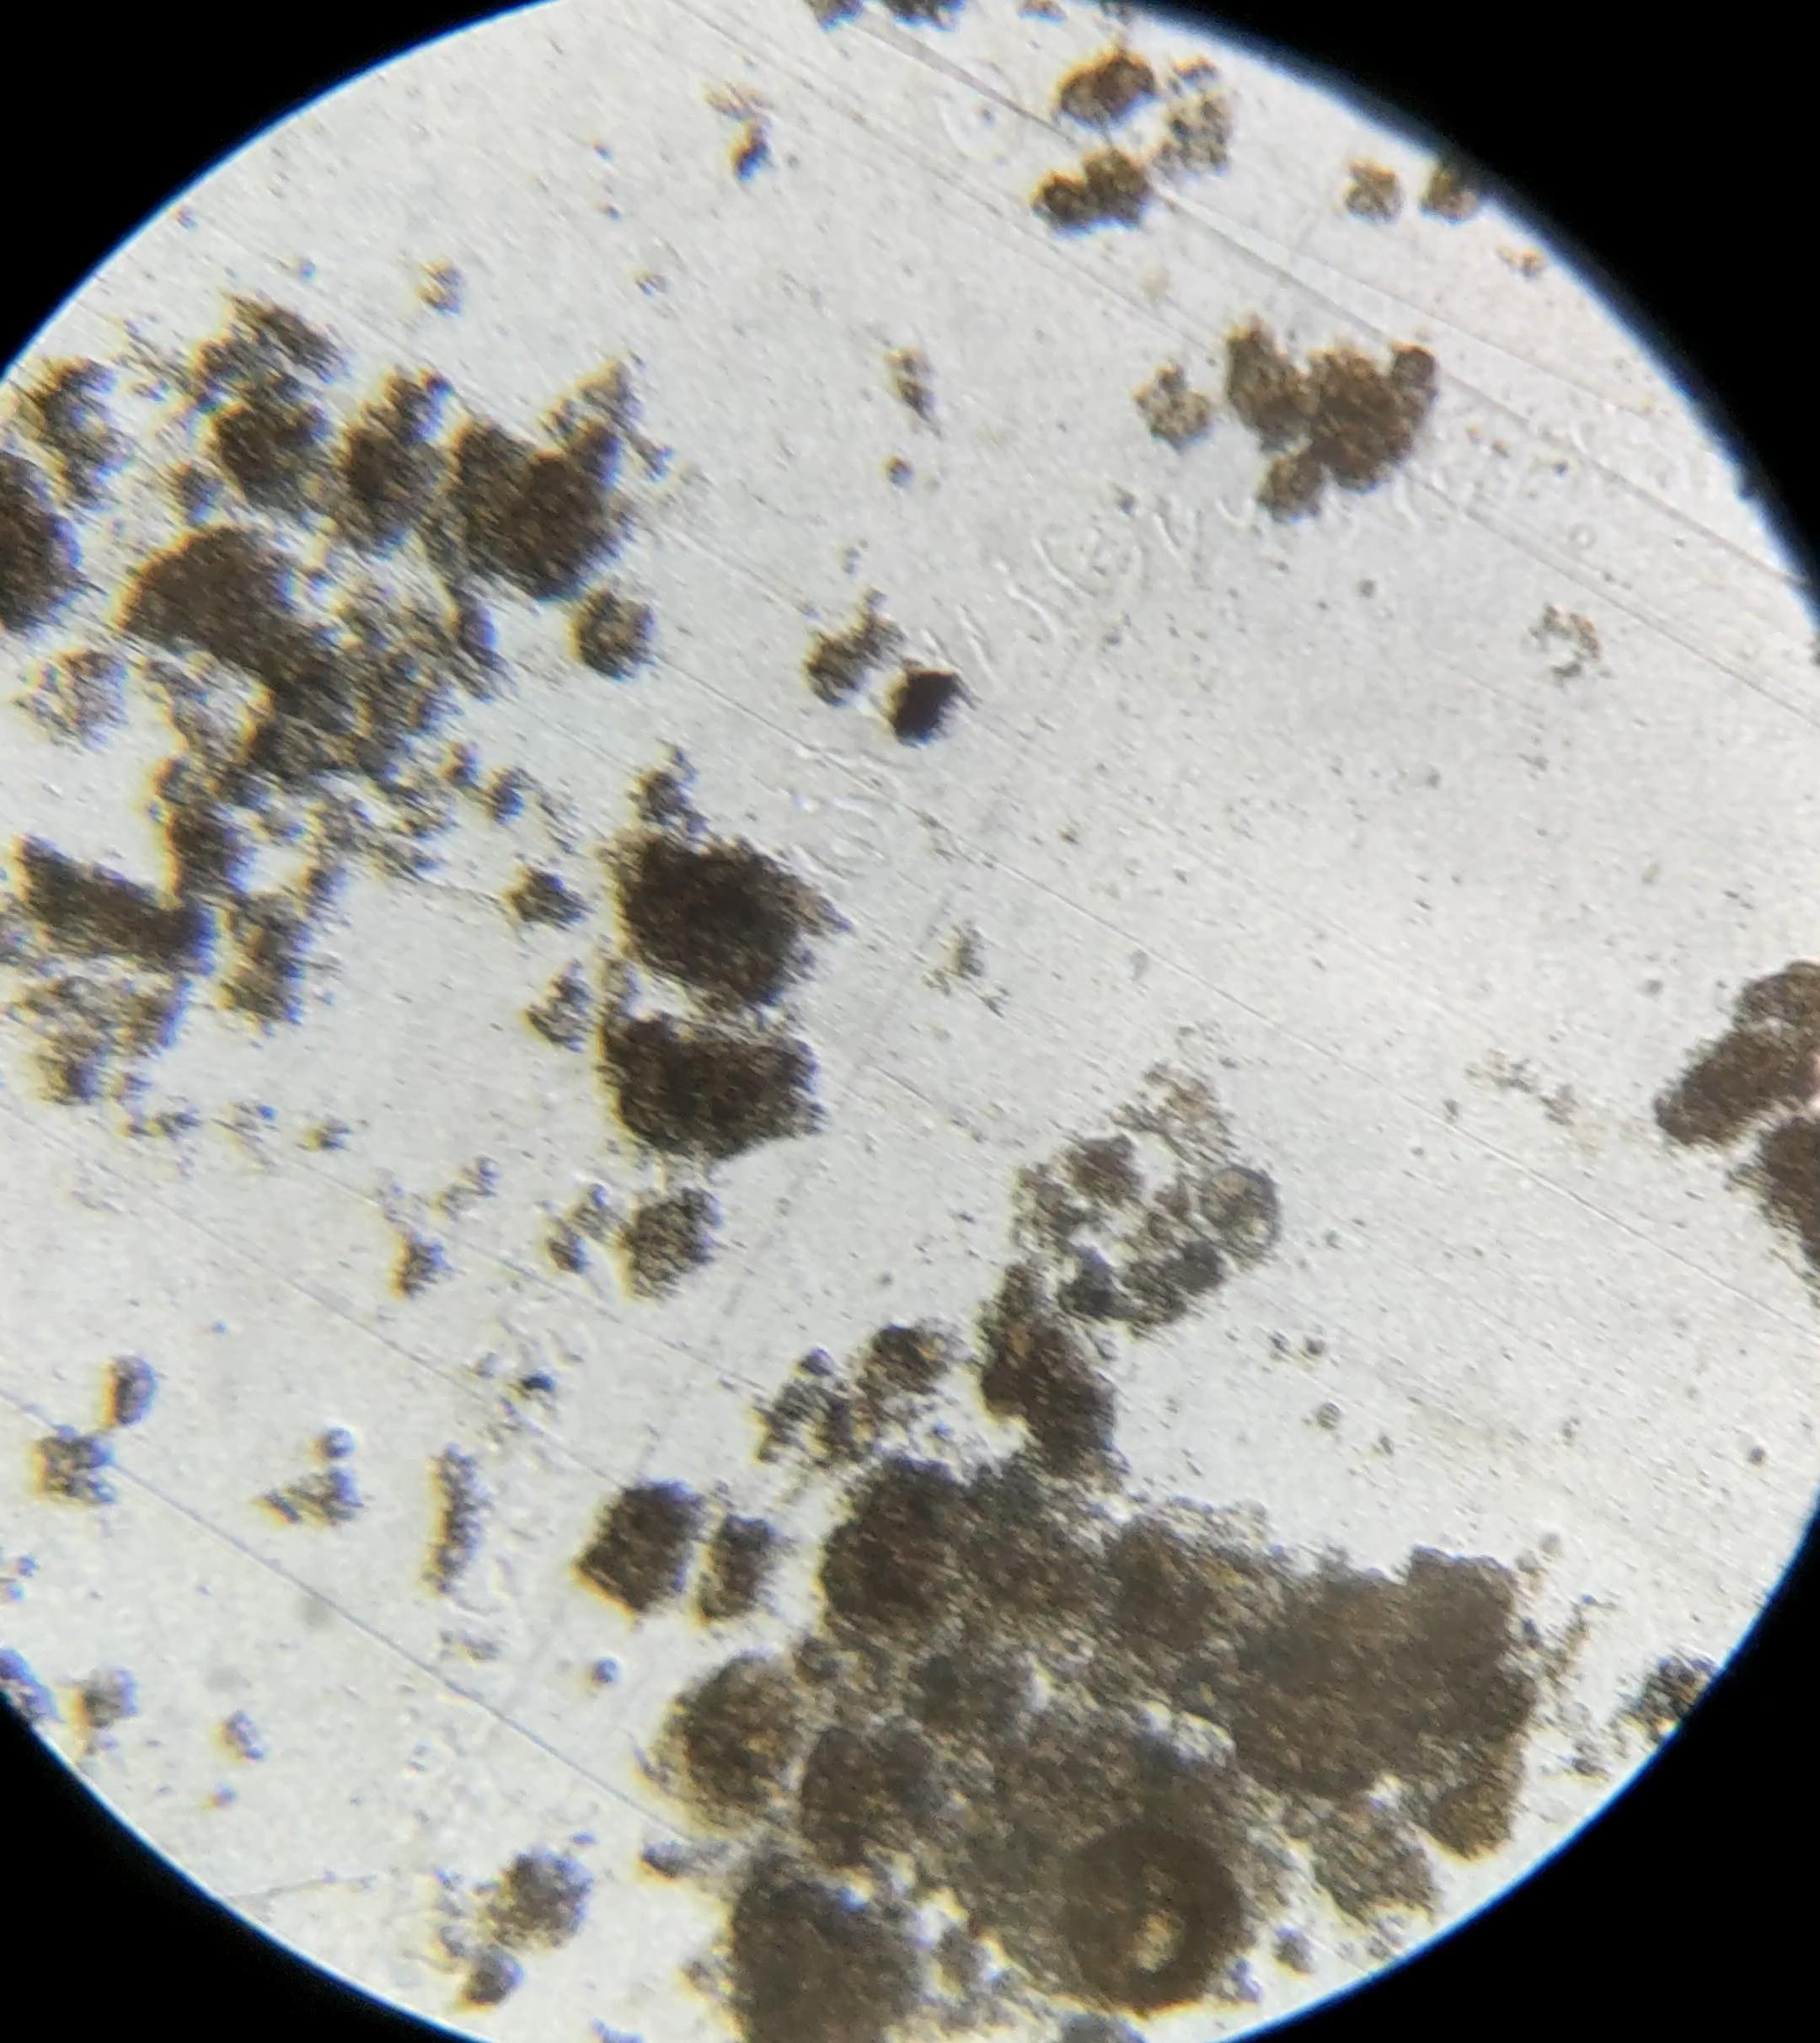Arcella: (1066, 1832, 1233, 2013)
